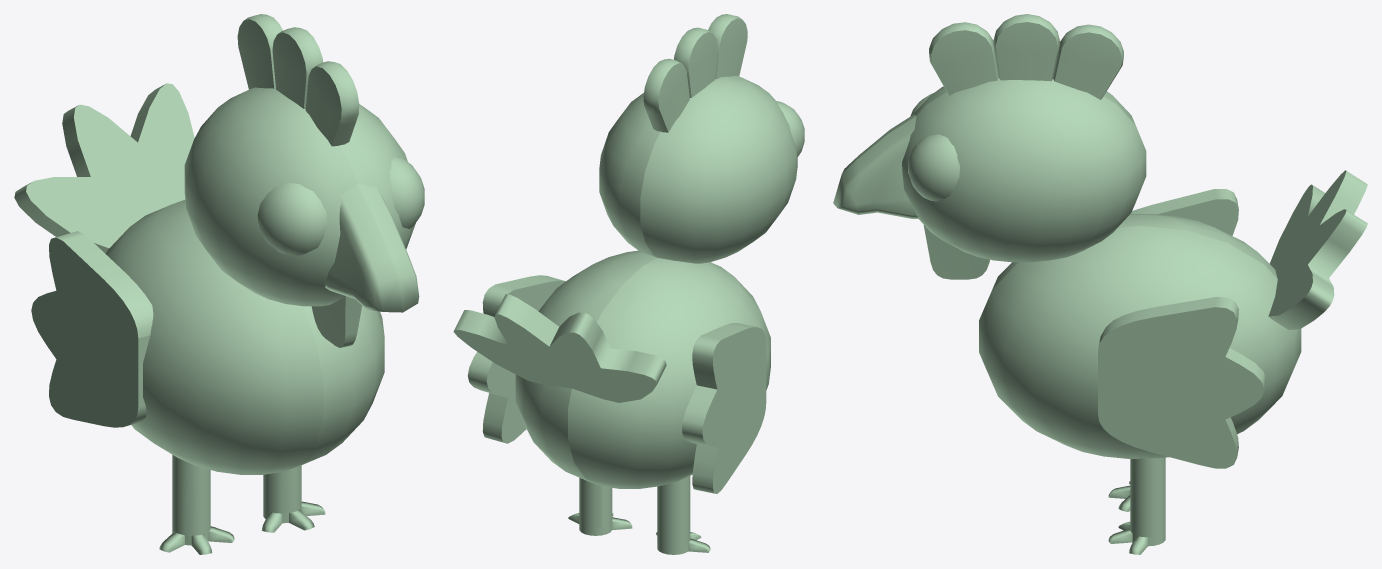
Rendered from NPC_Farm Chicken.fbx.
3 renders of one model, left to right at view 1: azimuth 30°, elevation 25°; view 2: azimuth 150°, elevation 25°; view 3: azimuth 270°, elevation 25°, orthographic. The views are drawn at different scales.
Visible parts, largest first — view 1: Chicken; view 2: Chicken; view 3: Chicken.
Boxes of the visible parts, left/top/right/bottom form: Chicken: left=14, top=14, right=424, bottom=554; Chicken: left=453, top=14, right=804, bottom=554; Chicken: left=833, top=14, right=1367, bottom=554.
Size of the model in its own units: 12.17 by 23.15 by 22.44.
